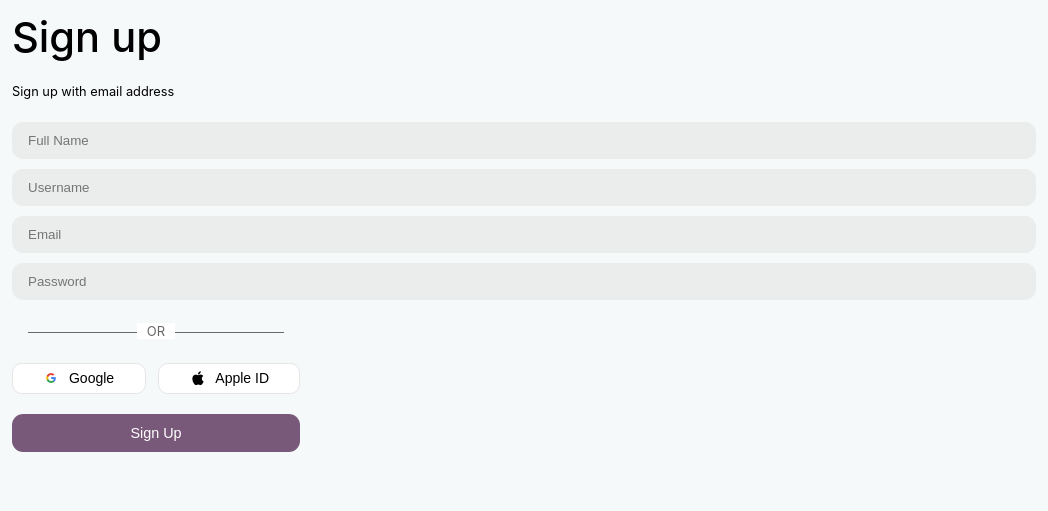
SignUp Component › shows error if form fields empty
The image size is (1048, 511).
Click the button "Sign Up" at (156, 433), box [12,414,300,452]
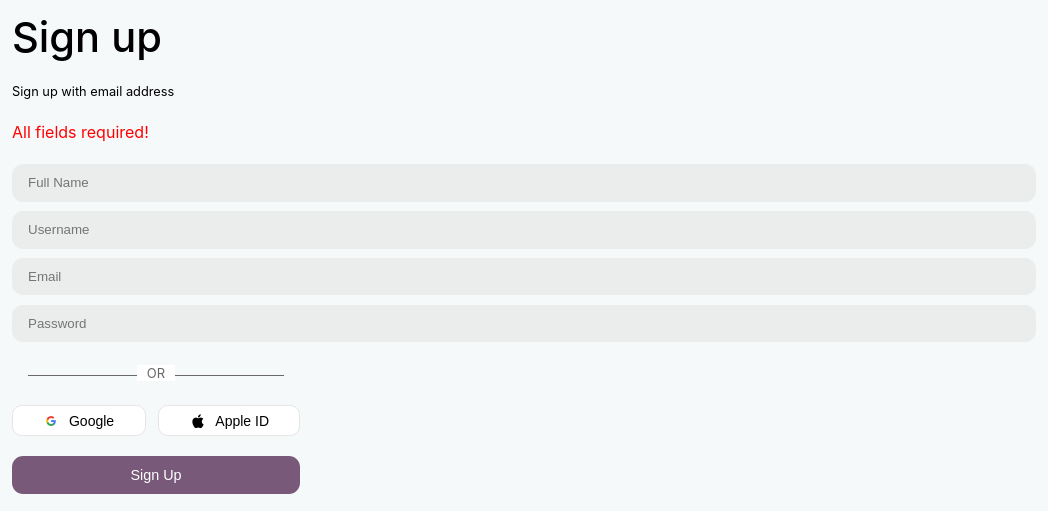
Expected: the text "All fields required!" is shown, [12,122,149,142]
